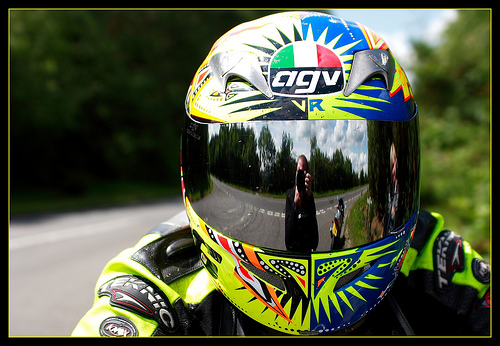helmet: (172, 23, 413, 314)
